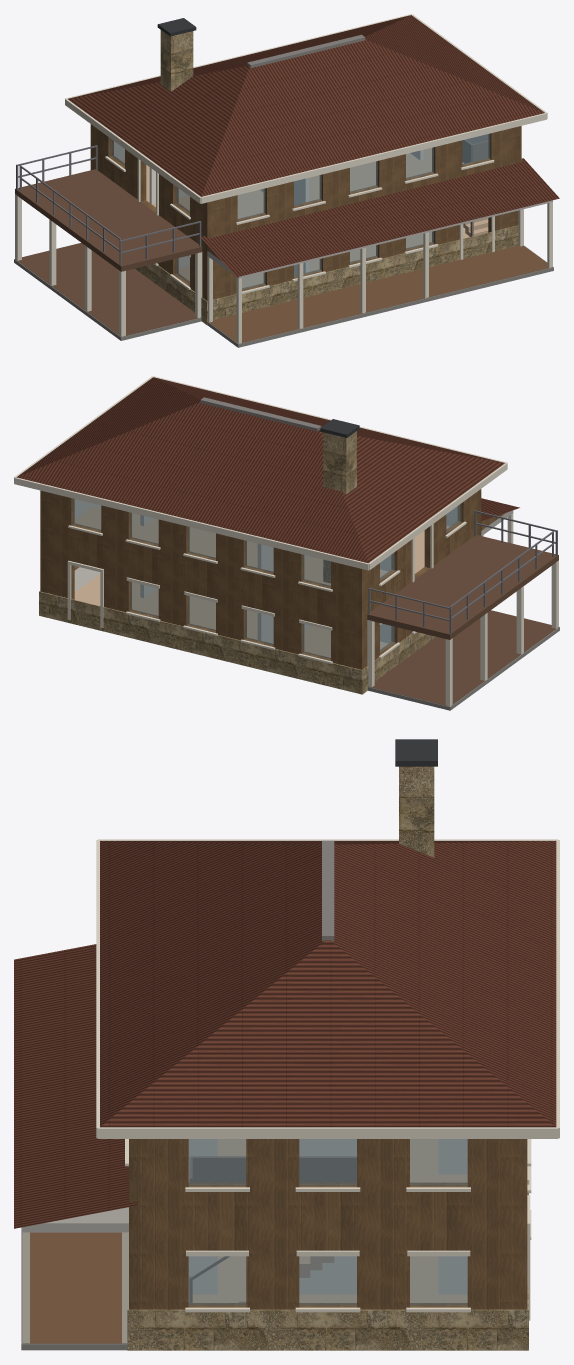
The model's file is cr-ranch-two.towns-v1.lod0.glb.
3 views of the same model, one above another, from view 1: azimuth 30°, elevation 25°; view 2: azimuth 150°, elevation 25°; view 3: azimuth 270°, elevation 25° (orthographic). The views are drawn at different scales.
Visible parts, largest first — view 1: cr-ranch-two; view 2: cr-ranch-two; view 3: cr-ranch-two.
Boxes of the visible parts, bbox=[...] form: cr-ranch-two: bbox=[14, 14, 559, 347]; cr-ranch-two: bbox=[14, 376, 559, 710]; cr-ranch-two: bbox=[14, 739, 559, 1350].
Size of the model in its own units: 18.37 by 9.54 by 12.34.
7 materials, 3 textured.
